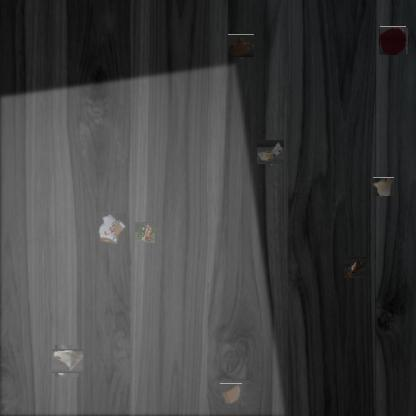dirty: (96, 212, 126, 244), (54, 347, 82, 375), (257, 140, 283, 166), (344, 256, 366, 278), (220, 383, 242, 404), (135, 222, 156, 243), (372, 177, 394, 196)
liquid: (380, 27, 407, 55), (229, 34, 254, 58)
